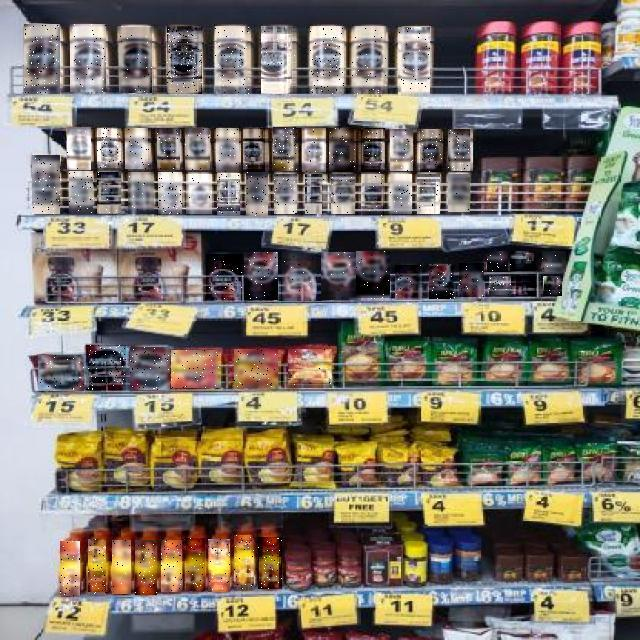Coffee: (25, 24, 61, 94), (71, 25, 107, 93), (167, 26, 202, 94), (310, 26, 344, 94), (216, 26, 250, 94), (262, 26, 296, 94), (352, 26, 386, 94), (119, 27, 152, 93), (398, 28, 430, 96), (172, 350, 220, 388), (86, 345, 126, 390), (130, 347, 170, 390), (321, 252, 356, 300), (288, 350, 332, 388), (234, 350, 278, 388), (282, 251, 316, 300), (206, 254, 242, 300), (38, 355, 84, 391), (32, 155, 60, 214), (356, 252, 390, 300), (245, 252, 279, 300), (258, 537, 282, 589), (135, 540, 157, 595), (208, 539, 230, 592), (330, 128, 356, 172), (60, 541, 80, 596), (161, 540, 182, 592), (128, 172, 154, 214), (234, 536, 254, 590), (274, 127, 298, 171), (244, 128, 268, 172), (361, 128, 385, 172), (302, 128, 326, 172), (185, 128, 210, 170), (186, 174, 212, 214), (67, 127, 91, 170), (112, 540, 131, 594), (216, 128, 239, 172), (89, 540, 107, 596), (69, 172, 93, 214), (97, 172, 121, 214), (158, 172, 182, 214), (186, 538, 205, 591), (126, 128, 150, 169), (246, 172, 268, 216), (362, 172, 384, 216), (157, 128, 180, 170), (450, 129, 473, 171), (390, 129, 413, 171), (217, 174, 240, 216), (97, 129, 121, 169), (331, 174, 355, 214), (448, 129, 470, 171), (420, 130, 442, 172), (417, 174, 440, 214), (274, 174, 297, 214), (430, 264, 456, 299), (396, 265, 422, 300), (390, 174, 412, 214), (459, 263, 484, 297), (448, 174, 470, 212), (306, 174, 326, 214), (510, 251, 536, 271), (542, 251, 566, 272), (488, 251, 510, 272), (489, 276, 511, 296), (516, 276, 536, 296), (543, 276, 562, 296)
